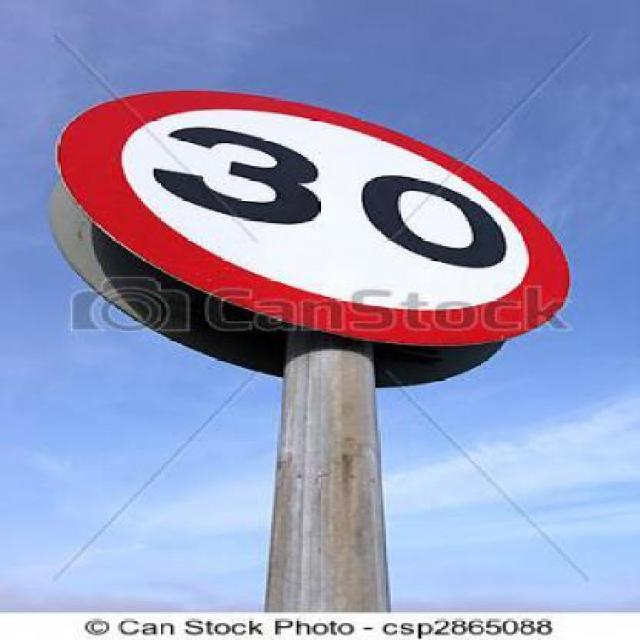traffic_sign: (58, 84, 582, 342)
